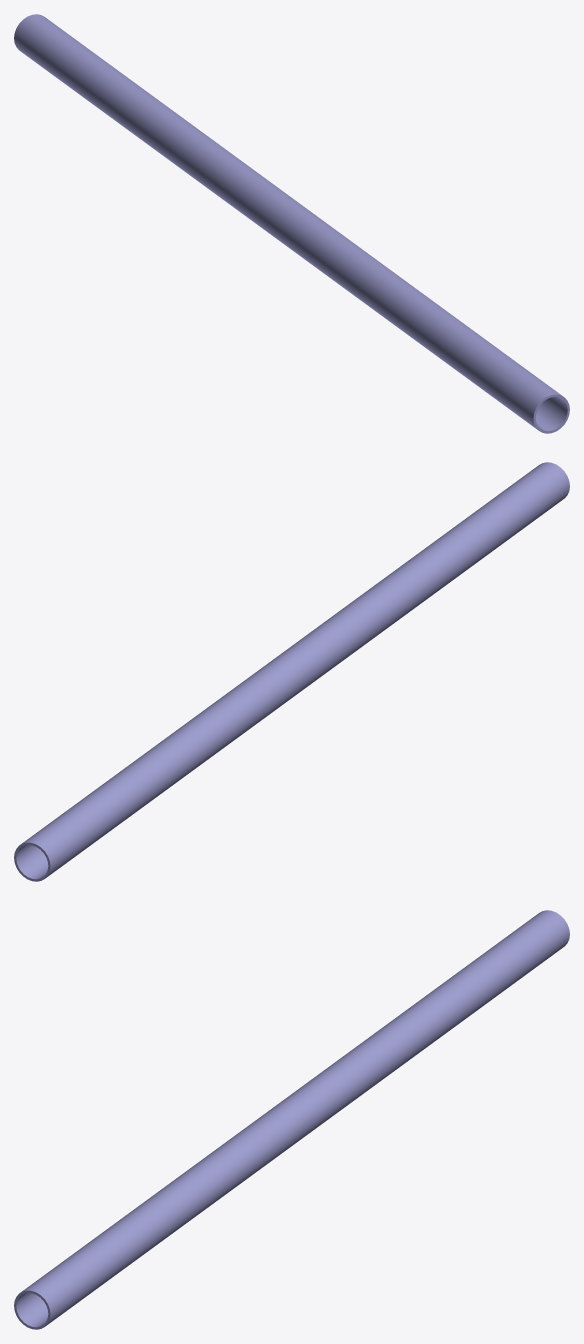
File: QMag01BPipePipe.gltf
3 views of the same model, one above another, from view 1: azimuth 30°, elevation 25°; view 2: azimuth 150°, elevation 25°; view 3: azimuth 330°, elevation 25° (orthographic).
Parts seen in each view (by area): view 1: logicQMag01BPipePipe_pv0x2246110; view 2: logicQMag01BPipePipe_pv0x2246110; view 3: logicQMag01BPipePipe_pv0x2246110.
Part boxes in pixels (x1=…): logicQMag01BPipePipe_pv0x2246110: x1=14, y1=14, x2=569, y2=433; logicQMag01BPipePipe_pv0x2246110: x1=14, y1=462, x2=569, y2=881; logicQMag01BPipePipe_pv0x2246110: x1=14, y1=910, x2=569, y2=1329.
Bounding box in the file's own units: 5.11 × 5.11 × 126.
